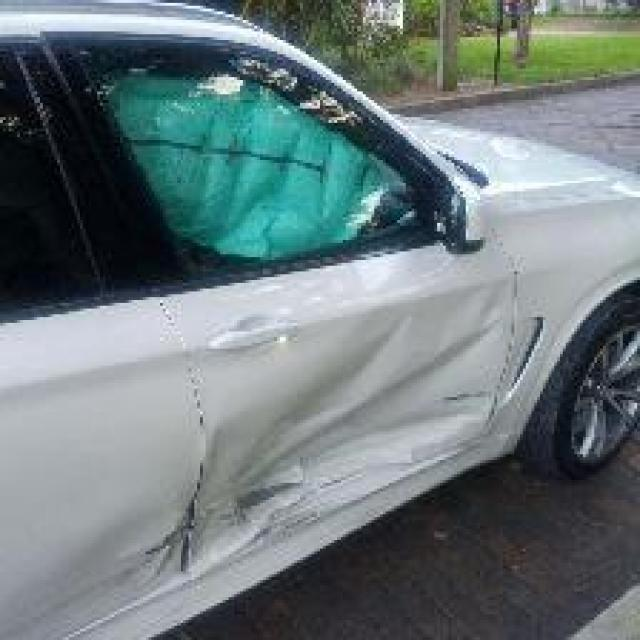damaged: (65, 57, 538, 594)
